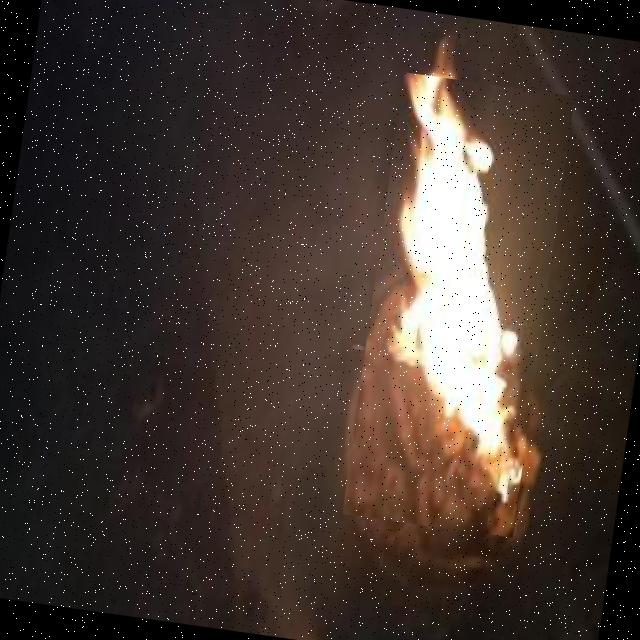fire: (342, 72, 574, 538)
